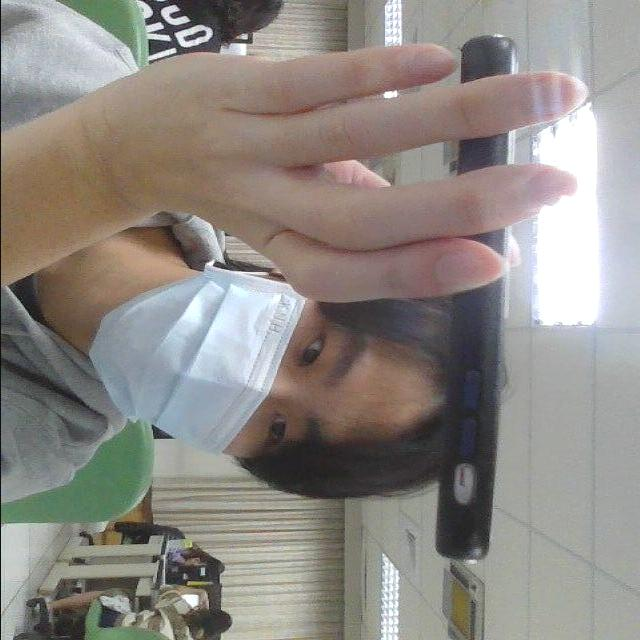ph: (398, 11, 554, 598)
